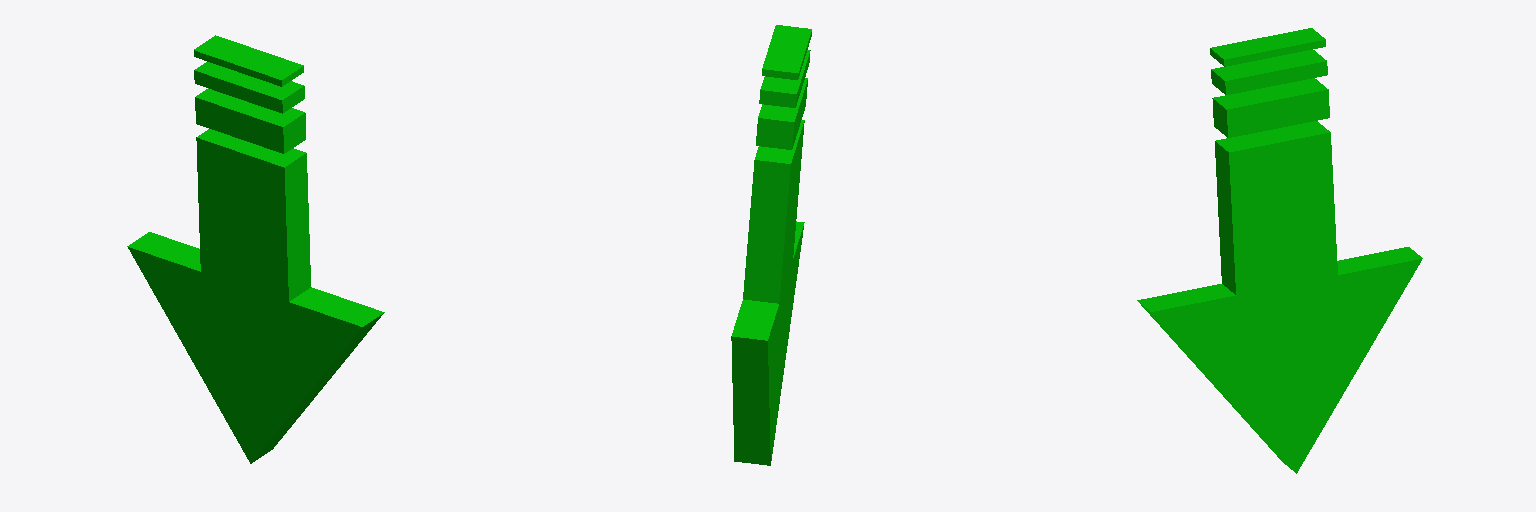
File: arrow_down.obj
3 renders of one model, left to right at view 1: azimuth 30°, elevation 25°; view 2: azimuth 150°, elevation 25°; view 3: azimuth 270°, elevation 25°, orthographic.
Parts seen in each view (by area): view 1: Cube; view 2: Cube; view 3: Cube.
Boxes of the visible parts, <box> form: Cube: <box>127,35,384,463</box>; Cube: <box>731,25,811,465</box>; Cube: <box>1137,28,1422,473</box>.
Size of the model in its own units: 0.8052 by 2.49 by 1.55.